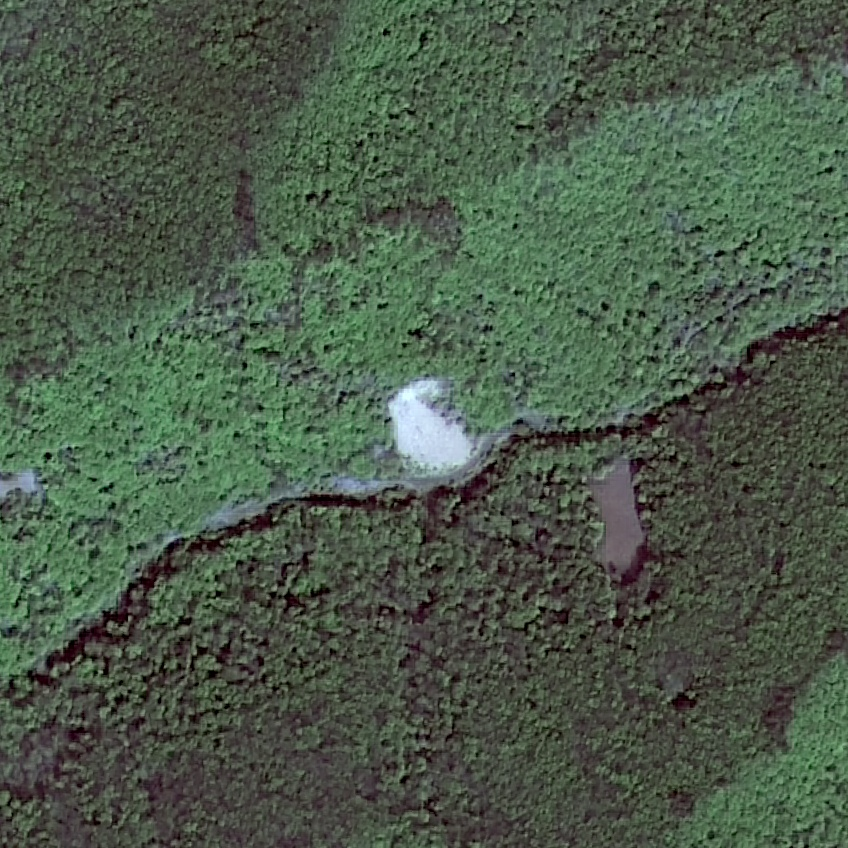slope: (368, 374, 473, 472)
